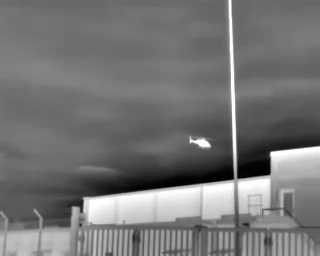HELICOPTER: (185, 131, 216, 155)
